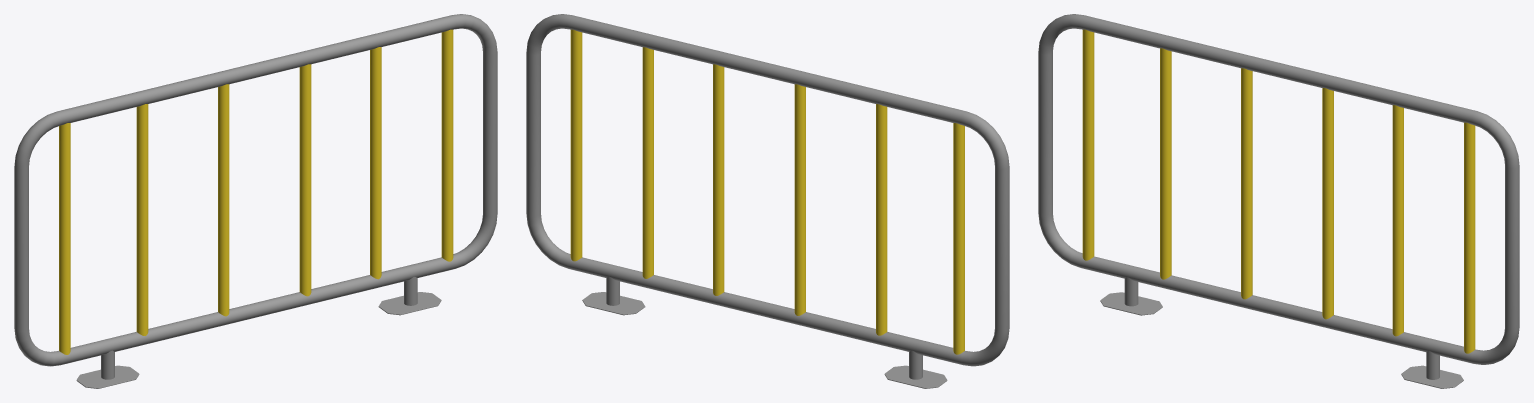
Rendered from Guardrail.fbx.
3 views of the same model, side by side, from view 1: azimuth 30°, elevation 25°; view 2: azimuth 150°, elevation 25°; view 3: azimuth 330°, elevation 25° (orthographic).
Visible parts, largest first — view 1: Guardrail; view 2: Guardrail; view 3: Guardrail.
Boxes of the visible parts, left/top/right/bottom form: Guardrail: left=14, top=14, right=497, bottom=388; Guardrail: left=526, top=14, right=1009, bottom=388; Guardrail: left=1038, top=14, right=1519, bottom=388.
Size of the model in its own units: 0.1644 by 0.0907 by 0.011.
Materials: 1 (1 with a texture image).
